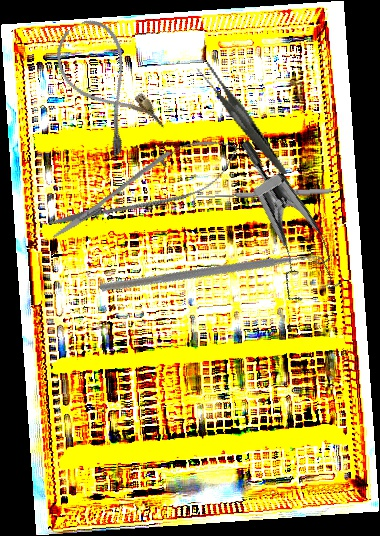Cannula: (44, 11, 168, 159)
Chopper: (98, 165, 331, 391)
Dressing Forceps: (195, 49, 288, 191)
Hook Surgical: (191, 186, 334, 207)
Micro Scissor: (39, 122, 249, 256)
Speculum: (188, 137, 367, 318)
